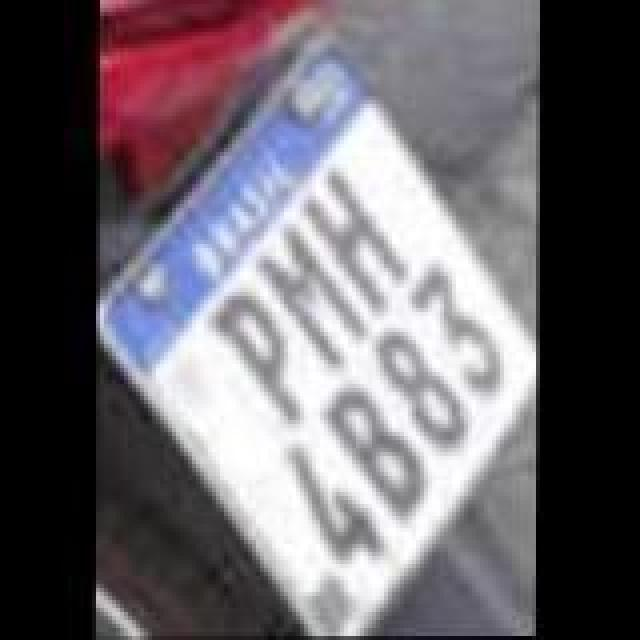3: (408, 264, 516, 404)
4: (292, 442, 392, 570)
8: (374, 324, 470, 456)
B: (326, 382, 430, 518)
H: (302, 164, 414, 312)
M: (258, 226, 370, 378)
P: (212, 290, 312, 426)
